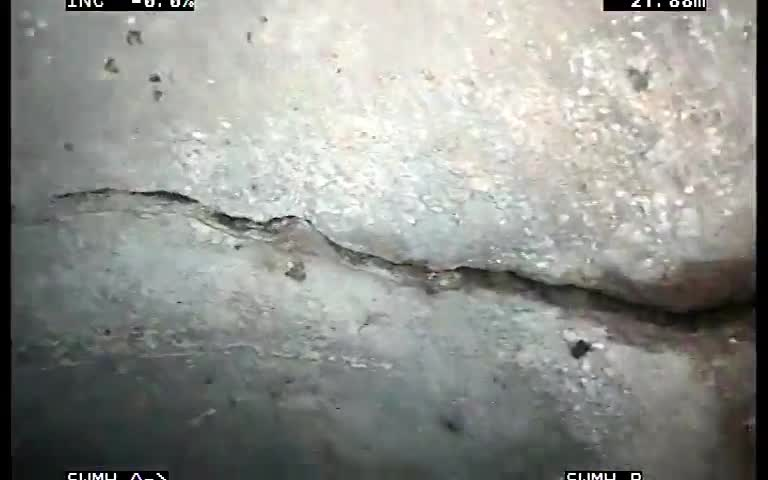Crack: (248, 167, 753, 378), (15, 140, 415, 286), (438, 220, 736, 342)
